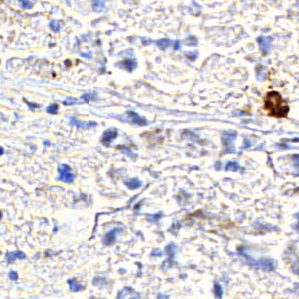Lymphocyte: (263, 90, 291, 119)
